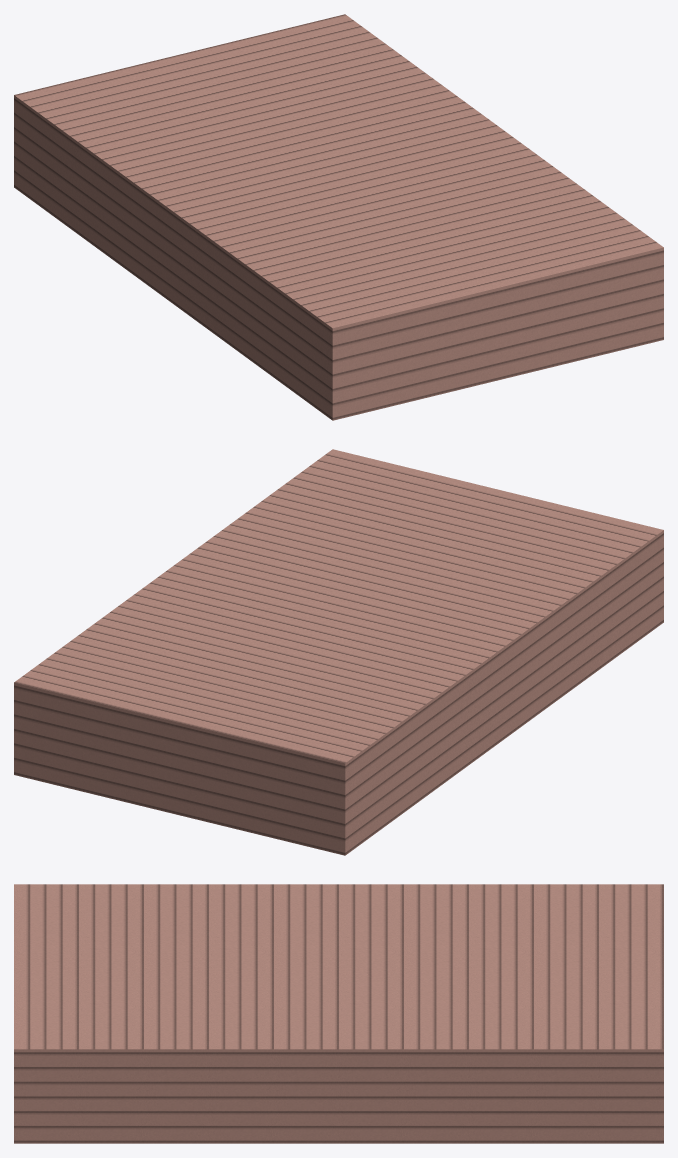
The model's file is hand_cranked_chain_ferry.glb.
3 renders of one model, top to bottom at view 1: azimuth 30°, elevation 25°; view 2: azimuth 150°, elevation 25°; view 3: azimuth 270°, elevation 25°, orthographic.
Visible parts, largest first — view 1: hand_cranked_chain_ferry-col; view 2: hand_cranked_chain_ferry-col; view 3: hand_cranked_chain_ferry-col.
Part boxes in pixels (x1=…): hand_cranked_chain_ferry-col: x1=14, y1=14, x2=663, y2=420; hand_cranked_chain_ferry-col: x1=14, y1=449, x2=663, y2=855; hand_cranked_chain_ferry-col: x1=14, y1=884, x2=663, y2=1143.
Bounding box in the file's own units: 3 × 0.8 × 5.
Materials: 1 (1 with a texture image).
